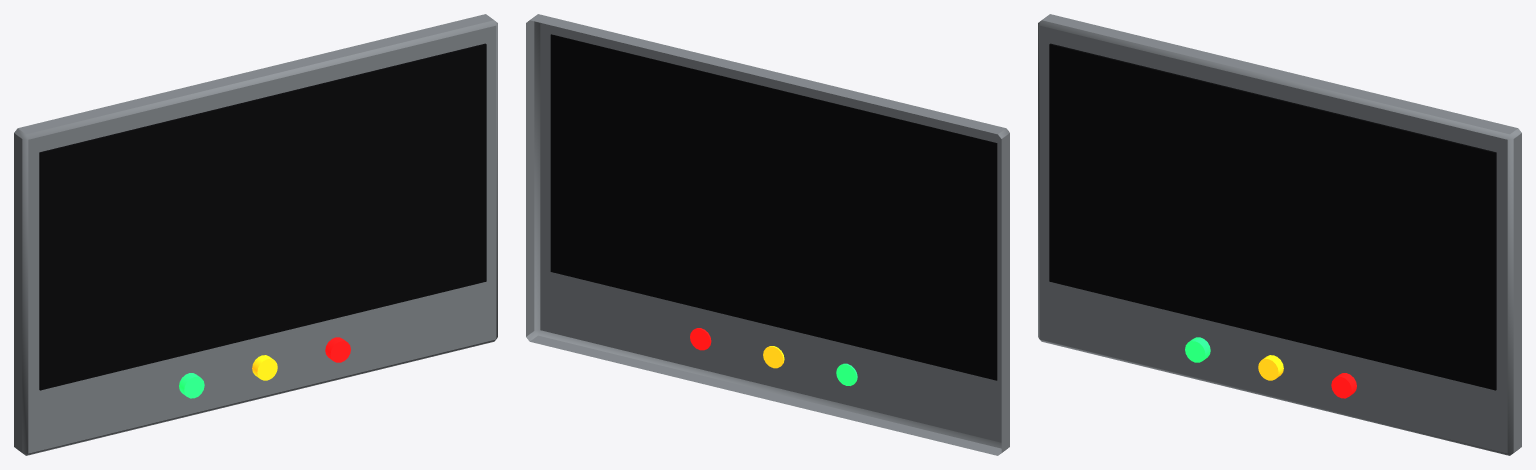
File: SM_Panel_Balance.fbx
3 views of the same model, side by side, from view 1: azimuth 30°, elevation 25°; view 2: azimuth 150°, elevation 25°; view 3: azimuth 330°, elevation 25° (orthographic).
Visible parts, largest first — view 1: SM_Panel_Balance; view 2: SM_Panel_Balance; view 3: SM_Panel_Balance.
Boxes of the visible parts, bbox=[...] form: SM_Panel_Balance: bbox=[14, 14, 497, 455]; SM_Panel_Balance: bbox=[526, 14, 1009, 455]; SM_Panel_Balance: bbox=[1038, 14, 1521, 455].
Size of the model in its own units: 1.3 by 0.84 by 0.075.
